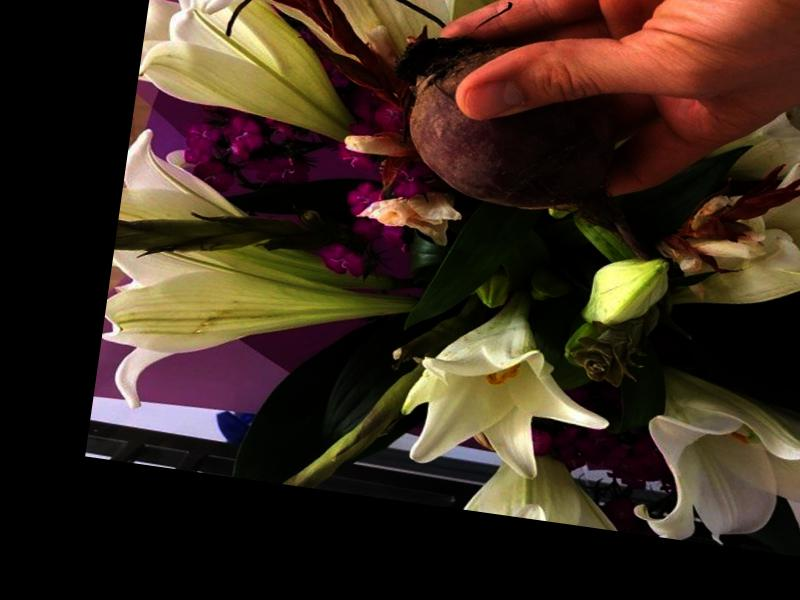Beet: (374, 28, 683, 264)
